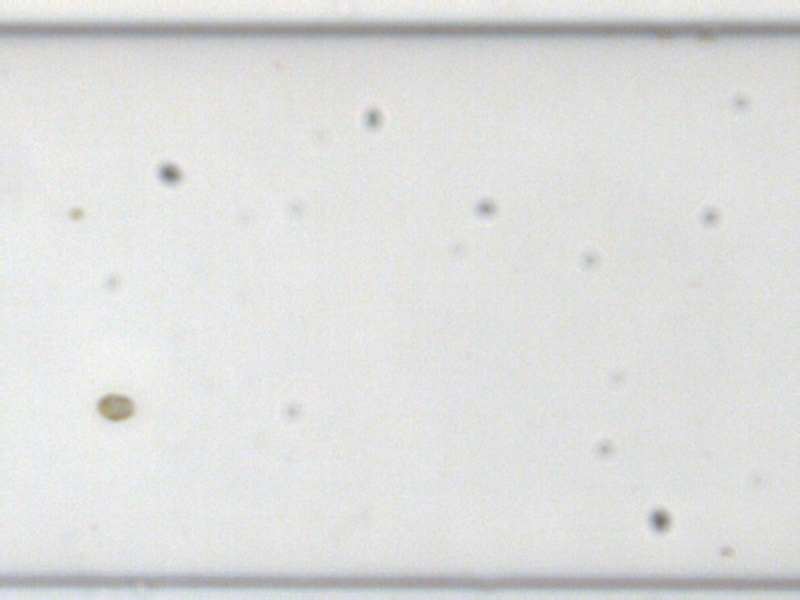Chlorella: (66, 206, 82, 221)
Dunaliella salina: (93, 392, 137, 420)
